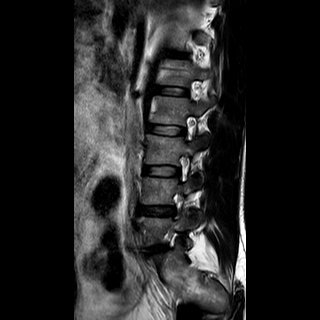RFS0: (170, 150, 194, 187), (176, 111, 200, 147), (164, 188, 187, 224)
